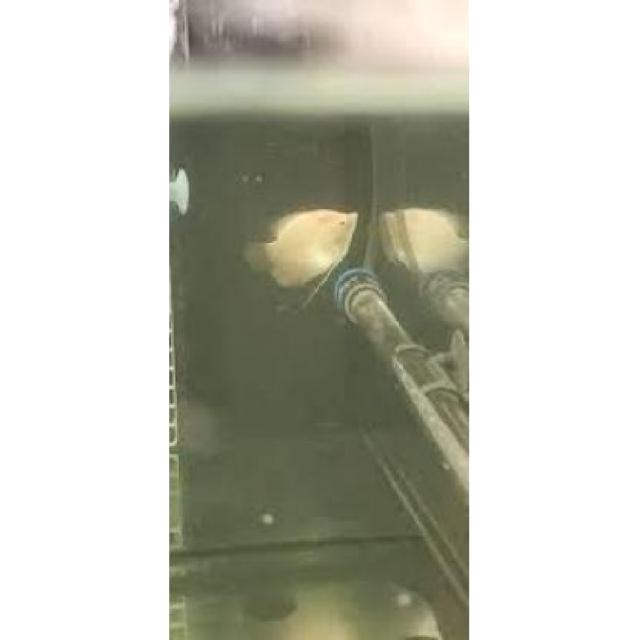gurame: (246, 193, 360, 293)
